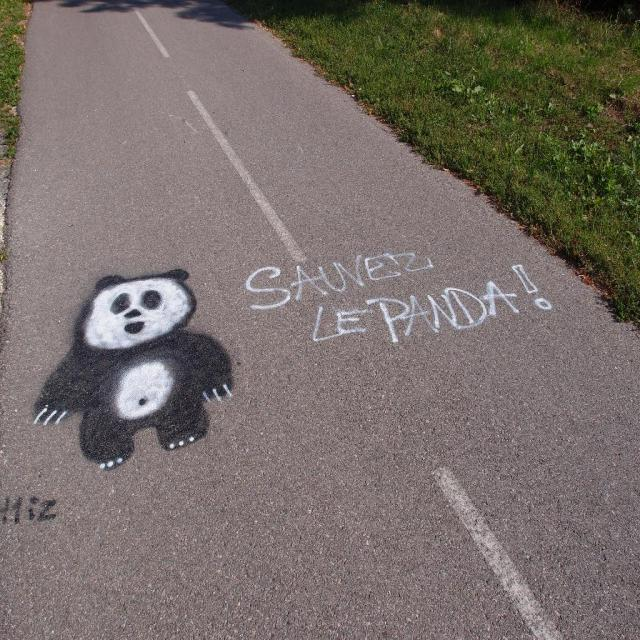panda: (31, 270, 236, 469)
